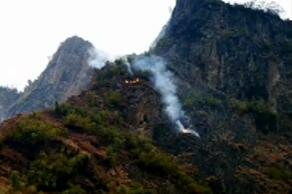yanwu: (86, 46, 199, 138)
